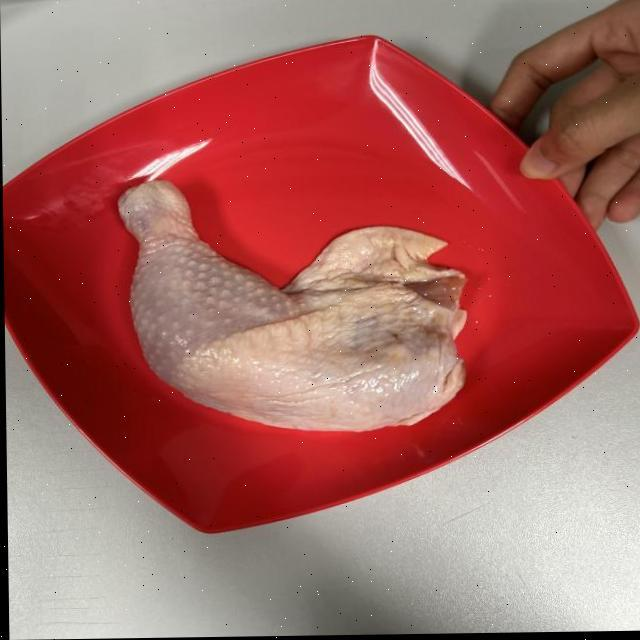quater: (102, 164, 473, 440)
